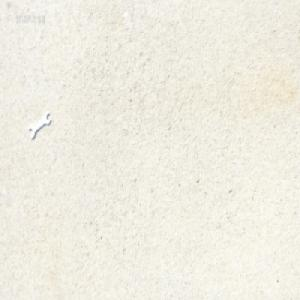Wrench: (29, 108, 52, 139)
